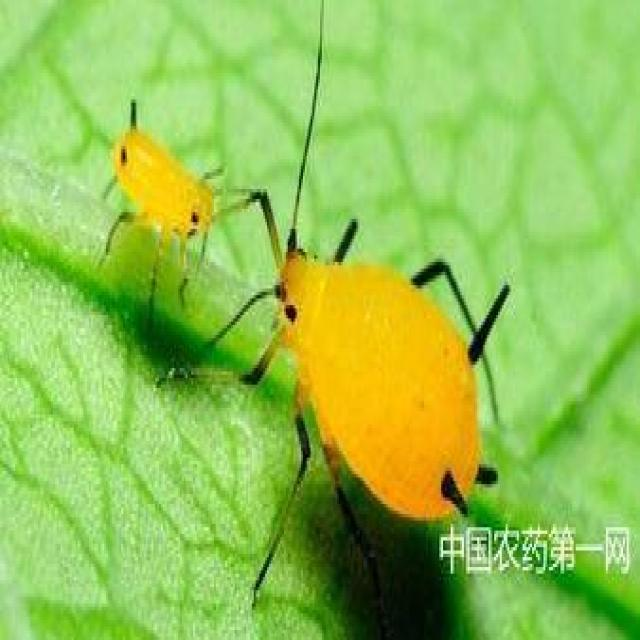Aphids: (205, 174, 535, 522), (51, 80, 261, 346)
